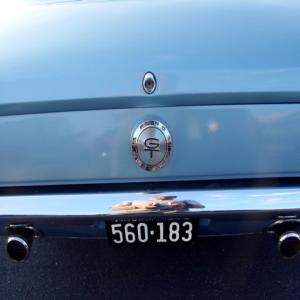Vehicle-registration-plate: (98, 223, 207, 255)
